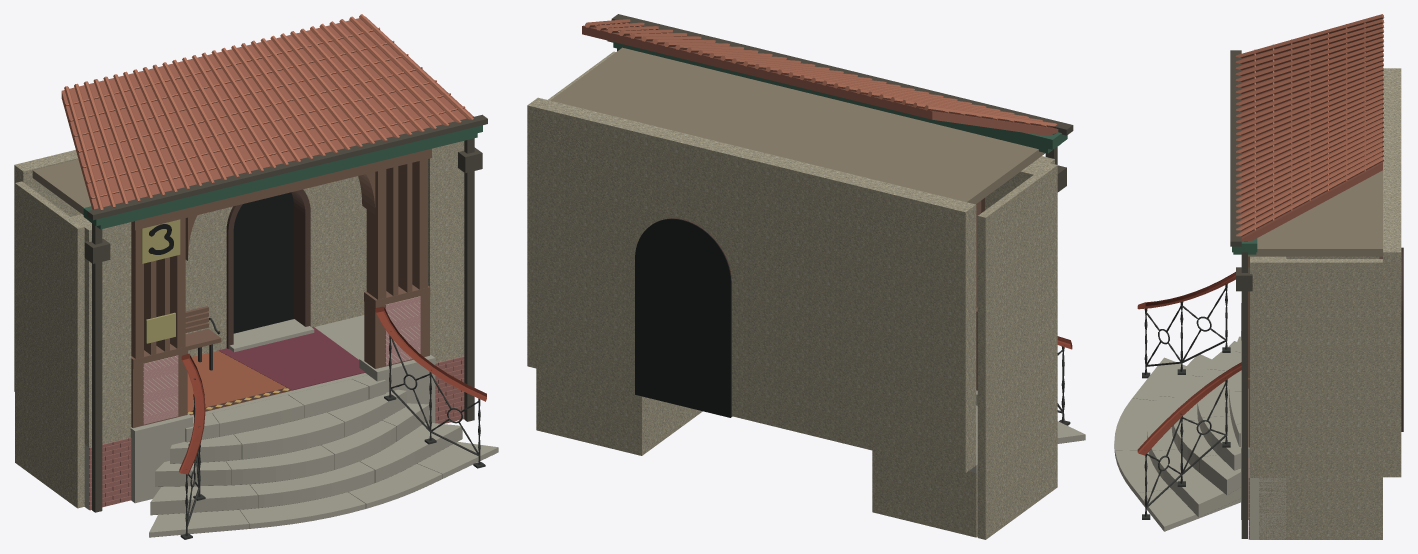
The model's file is xuhui-dingxiang-three-numbered-porch-lod.glb.
The picture shows the model from 3 angles, left to right: view 1: azimuth 30°, elevation 25°; view 2: azimuth 150°, elevation 25°; view 3: azimuth 270°, elevation 25°; orthographic projection. The views are drawn at different scales.
Parts seen in each view (by area): view 1: 丁香花园三号楼门廊与弧形石阶; view 2: 丁香花园三号楼门廊与弧形石阶; view 3: 丁香花园三号楼门廊与弧形石阶.
Boxes of the visible parts, box(x1,y1,x2,y2) form: 丁香花园三号楼门廊与弧形石阶: box(14, 14, 498, 539); 丁香花园三号楼门廊与弧形石阶: box(527, 14, 1085, 539); 丁香花园三号楼门廊与弧形石阶: box(1114, 14, 1403, 539).
Bounding box in the file's own units: 5.7 × 5.01 × 3.64.
Materials: 22 (1 with a texture image).
